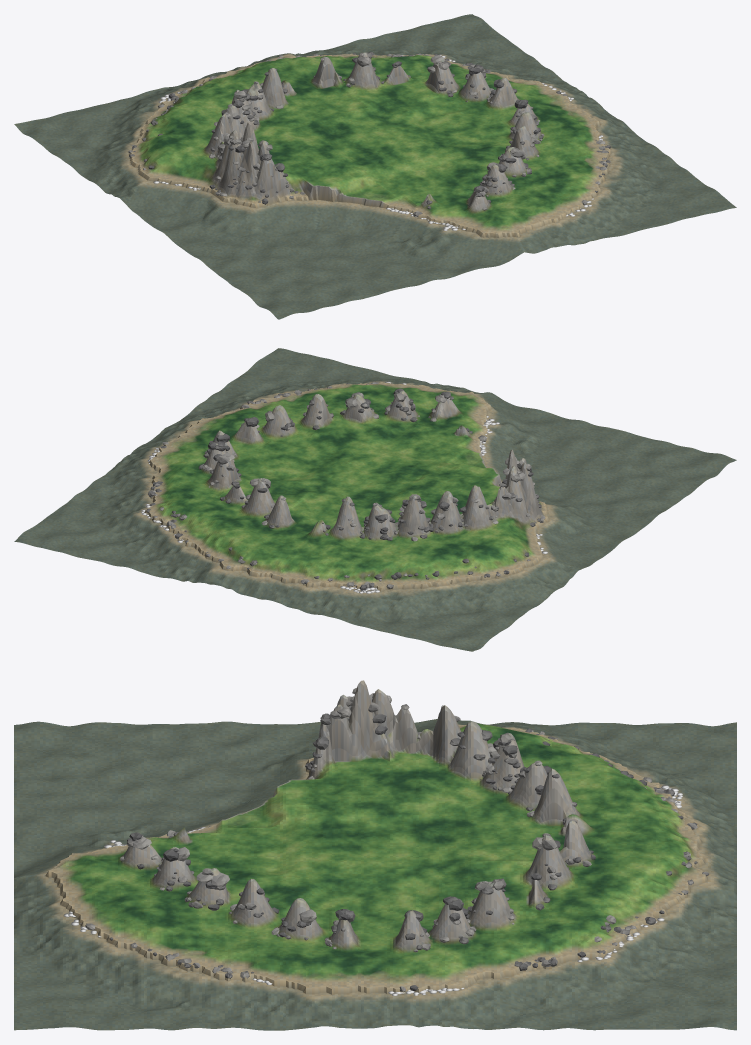
File: Terrain_P1.fbx
3 renders of one model, top to bottom at view 1: azimuth 30°, elevation 25°; view 2: azimuth 150°, elevation 25°; view 3: azimuth 270°, elevation 25°, orthographic. The views are drawn at different scales.
Parts seen in each view (by area): view 1: Ground, Surf; view 2: Ground, Surf; view 3: Ground, Surf.
Boxes of the visible parts, <box> form: Ground: <box>14,14,736,319</box>; Surf: <box>153,54,603,230</box>; Ground: <box>14,348,736,651</box>; Surf: <box>141,381,547,593</box>; Ground: <box>14,680,736,1030</box>; Surf: <box>63,785,682,995</box>.
Size of what is drawn, in the model's own units: 64000 by 10815 by 64000.
